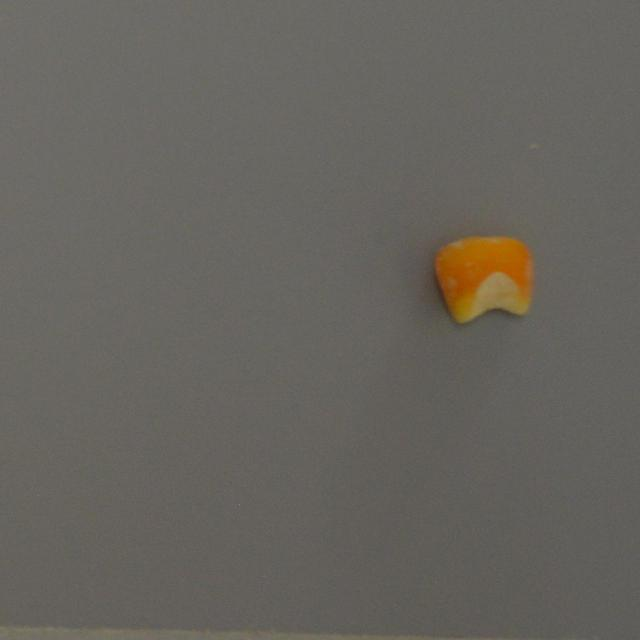dañado: (431, 232, 536, 326)
